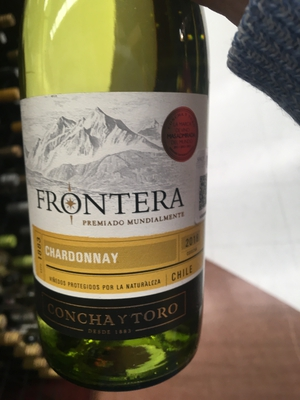frontera chardonnay: (20, 22, 228, 387)
